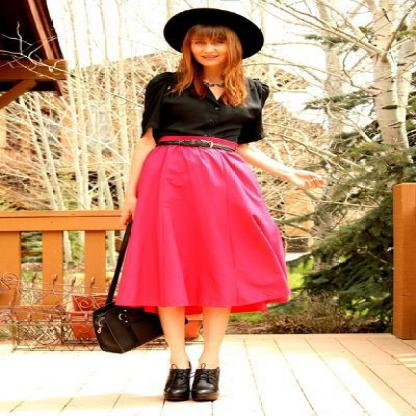bag: (87, 225, 162, 353)
hat: (163, 8, 263, 58)
shirt: (142, 72, 262, 145)
shoe: (163, 364, 211, 404)
skirt: (112, 145, 290, 316)
